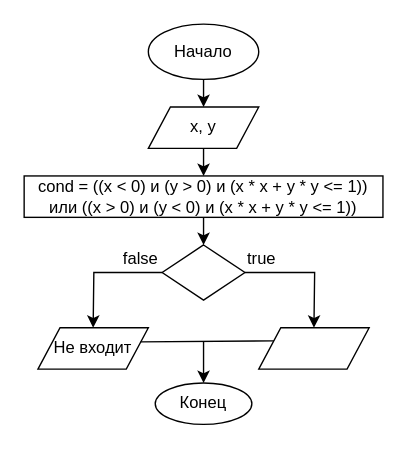
Image size: 407x449. Some labels were removed from this diagram. The box of each missing label's shape, as (x1, y1, x2, y2) in pixels:
cond: (161, 244, 245, 300)
Входит: (257, 326, 369, 369)
